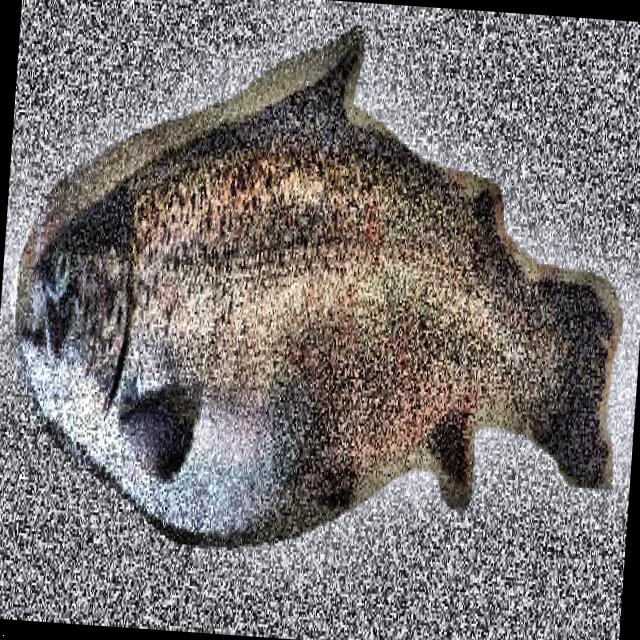mild_red: (88, 87, 614, 543)
